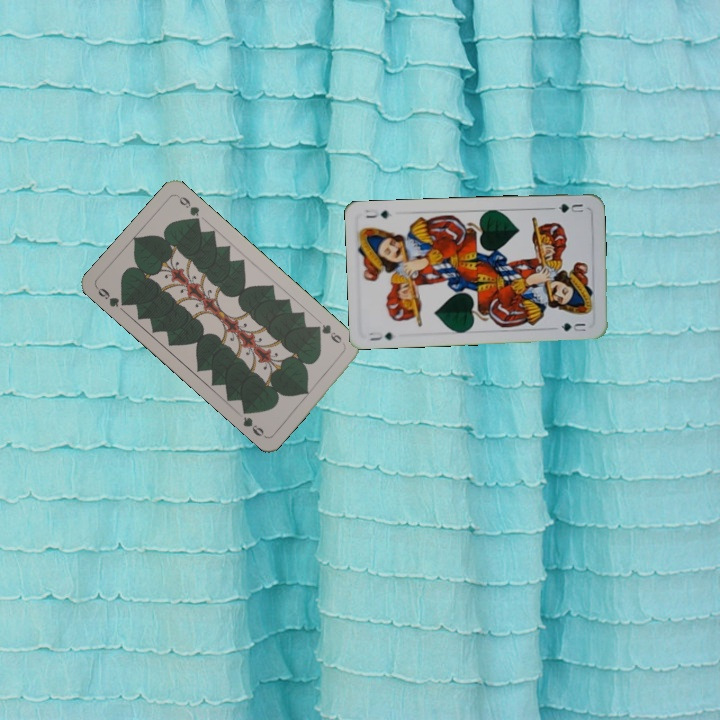G9: (311, 320, 348, 348), (93, 284, 131, 310)
GU: (554, 200, 586, 215), (364, 328, 395, 343)
